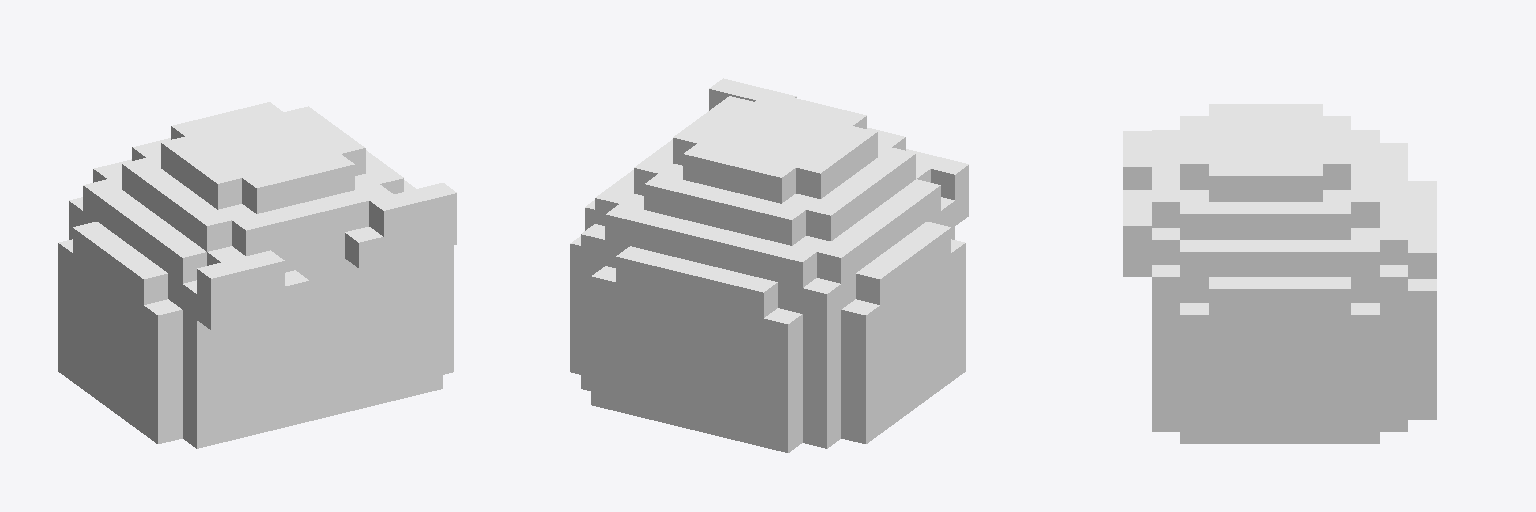
Rendered from BenRock_lookleft.obj.
The picture shows the model from 3 angles: view 1: azimuth 30°, elevation 25°; view 2: azimuth 150°, elevation 25°; view 3: azimuth 270°, elevation 25°; orthographic projection.
Visible parts, largest first — view 1: object 1; view 2: object 1; view 3: object 1.
Part boxes in pixels (x1,y1,x2,y2): object 1: (58,102,456,448); object 1: (570,78,968,452); object 1: (1123,104,1436,443).
Size of the model in its own units: 1.2 by 0.9 by 1.1.